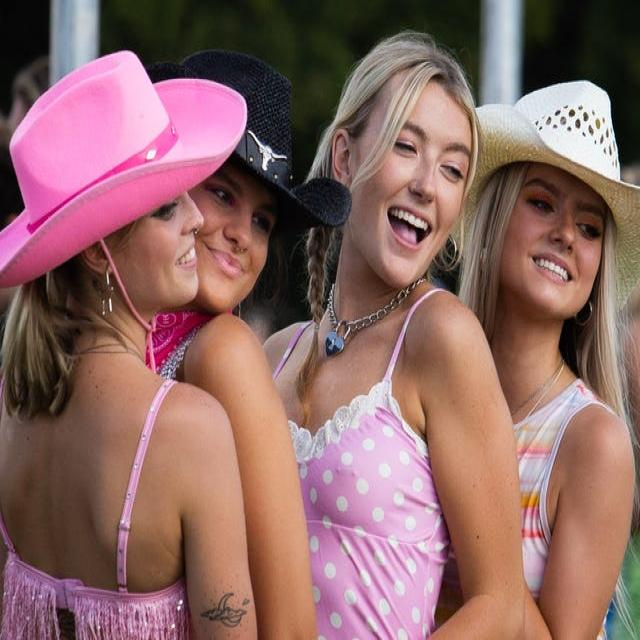hat: (1, 51, 242, 320), (176, 49, 352, 318), (467, 63, 640, 319)
head: (345, 38, 474, 282)
